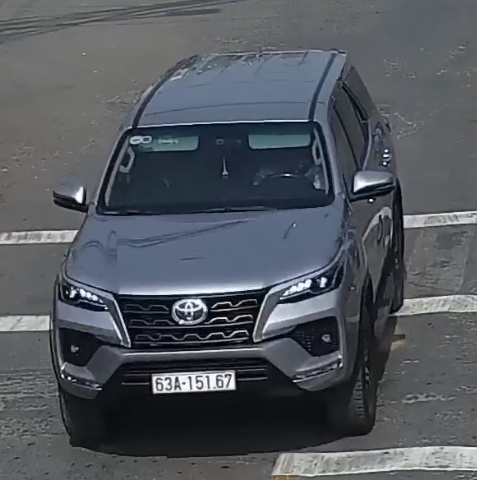vehicle plate: (136, 364, 239, 398)
